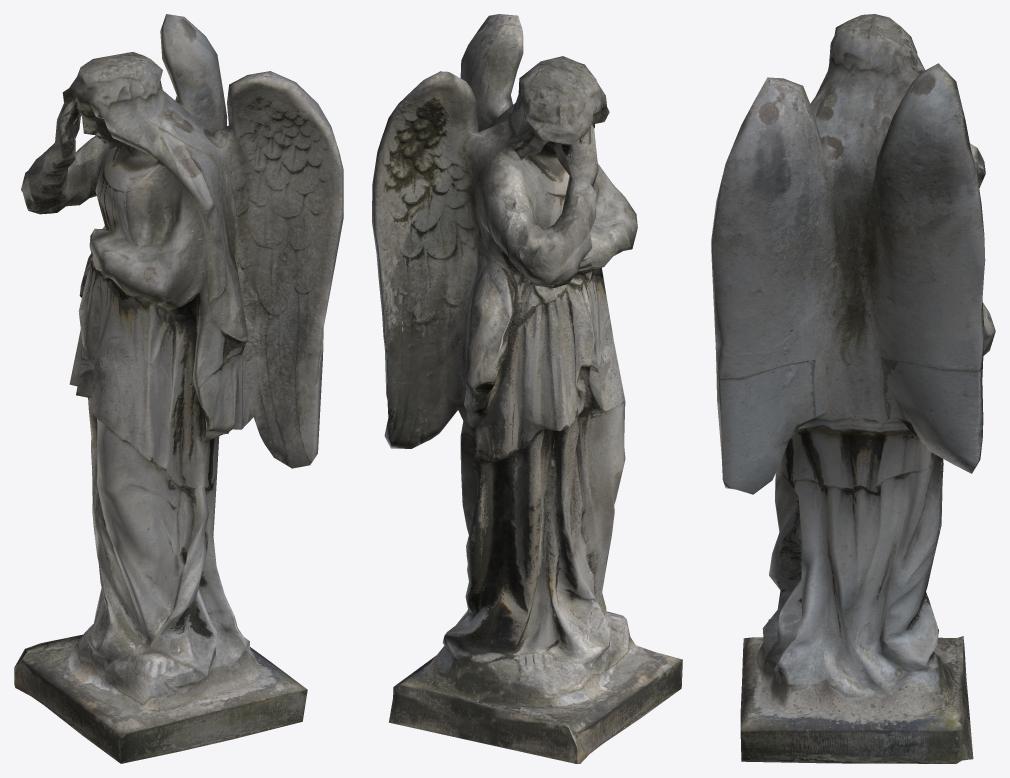
File: sm_GraveSculpture_02_01.fbx
3 renders of one model, left to right at view 1: azimuth 30°, elevation 25°; view 2: azimuth 150°, elevation 25°; view 3: azimuth 270°, elevation 25°, orthographic. The views are drawn at different scales.
Visible parts, largest first — view 1: sm_GraveSculpture_02_01_LOD0; view 2: sm_GraveSculpture_02_01_LOD0; view 3: sm_GraveSculpture_02_01_LOD0.
Part boxes in pixels (x1,y1,x2,y2): sm_GraveSculpture_02_01_LOD0: [14, 14, 343, 763]; sm_GraveSculpture_02_01_LOD0: [372, 14, 682, 763]; sm_GraveSculpture_02_01_LOD0: [711, 14, 995, 763].
Size of the model in its own units: 50.83 by 55.46 by 146.
